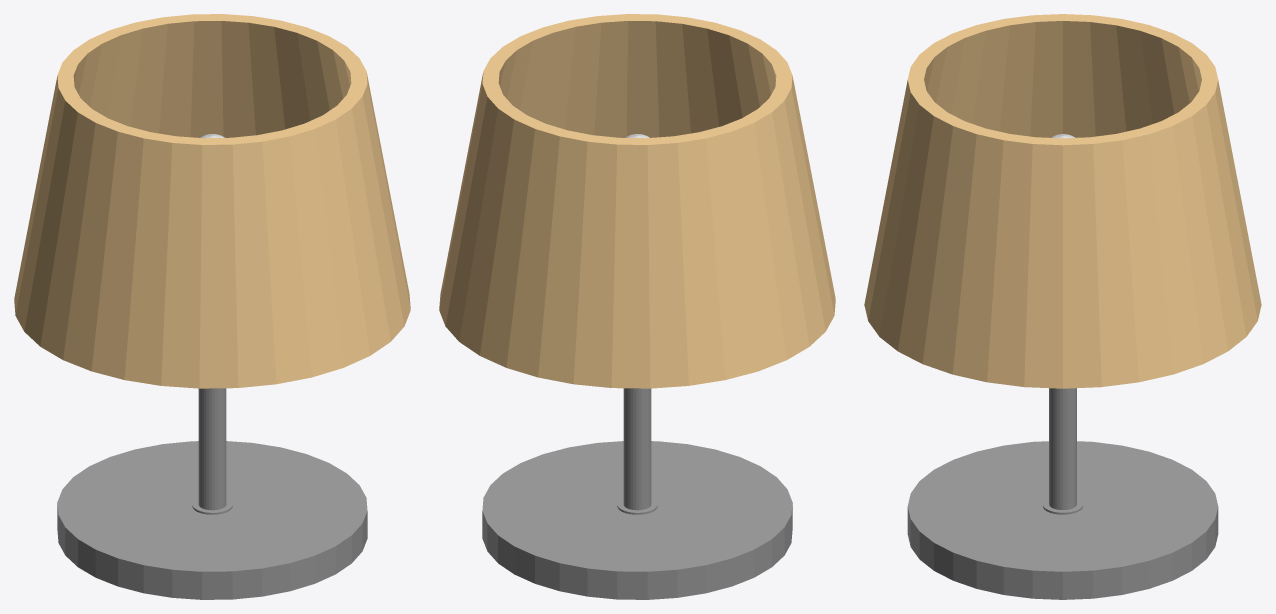
The model's file is LampS.fbx.
3 renders of one model, left to right at view 1: azimuth 30°, elevation 25°; view 2: azimuth 150°, elevation 25°; view 3: azimuth 270°, elevation 25°, orthographic.
Parts seen in each view (by area): view 1: Cylinder.002, Cylinder; view 2: Cylinder.002, Cylinder; view 3: Cylinder.002, Cylinder.
Part boxes in pixels (x1=…): Cylinder.002: x1=14, y1=14, x2=410, y2=388; Cylinder: x1=57, y1=388, x2=367, y2=599; Cylinder.002: x1=439, y1=14, x2=835, y2=388; Cylinder: x1=482, y1=388, x2=792, y2=599; Cylinder.002: x1=864, y1=14, x2=1261, y2=388; Cylinder: x1=907, y1=388, x2=1218, y2=599.
Bounding box in the file's own units: 256 × 323 × 256.
